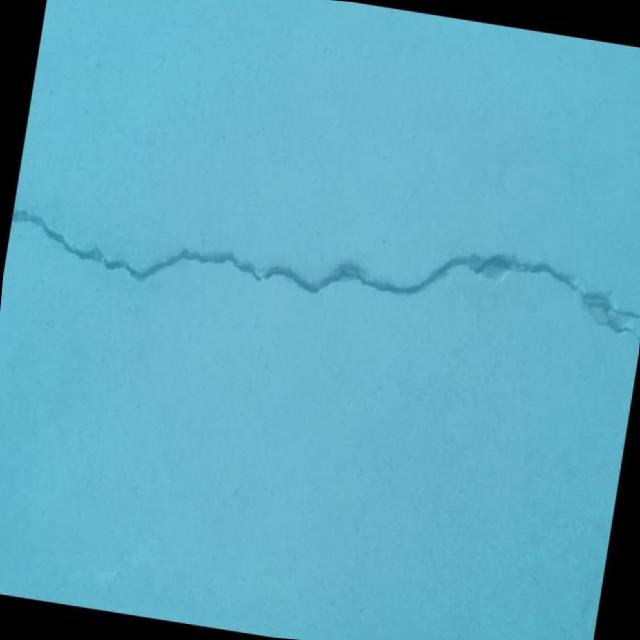crack: (1, 174, 640, 361)
